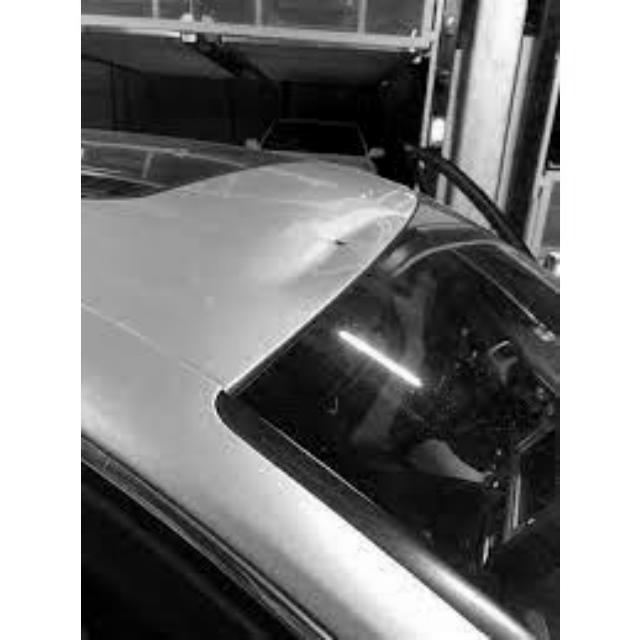roof-dent: (80, 146, 428, 351)
